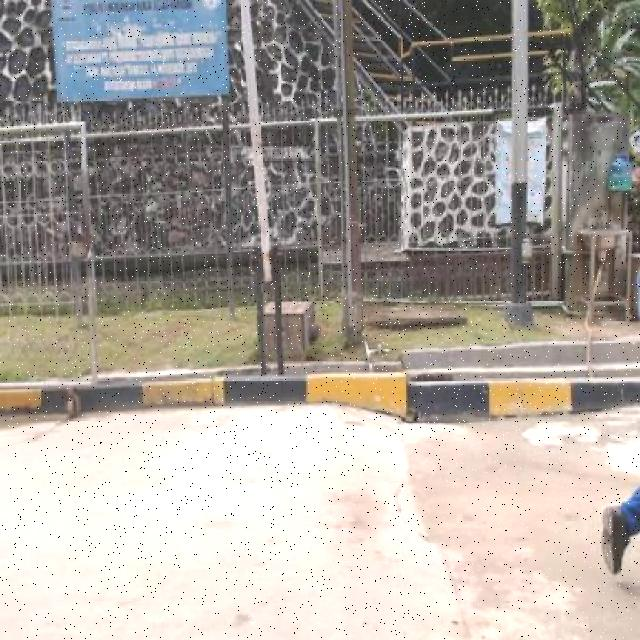Boots: (596, 498, 630, 582)
